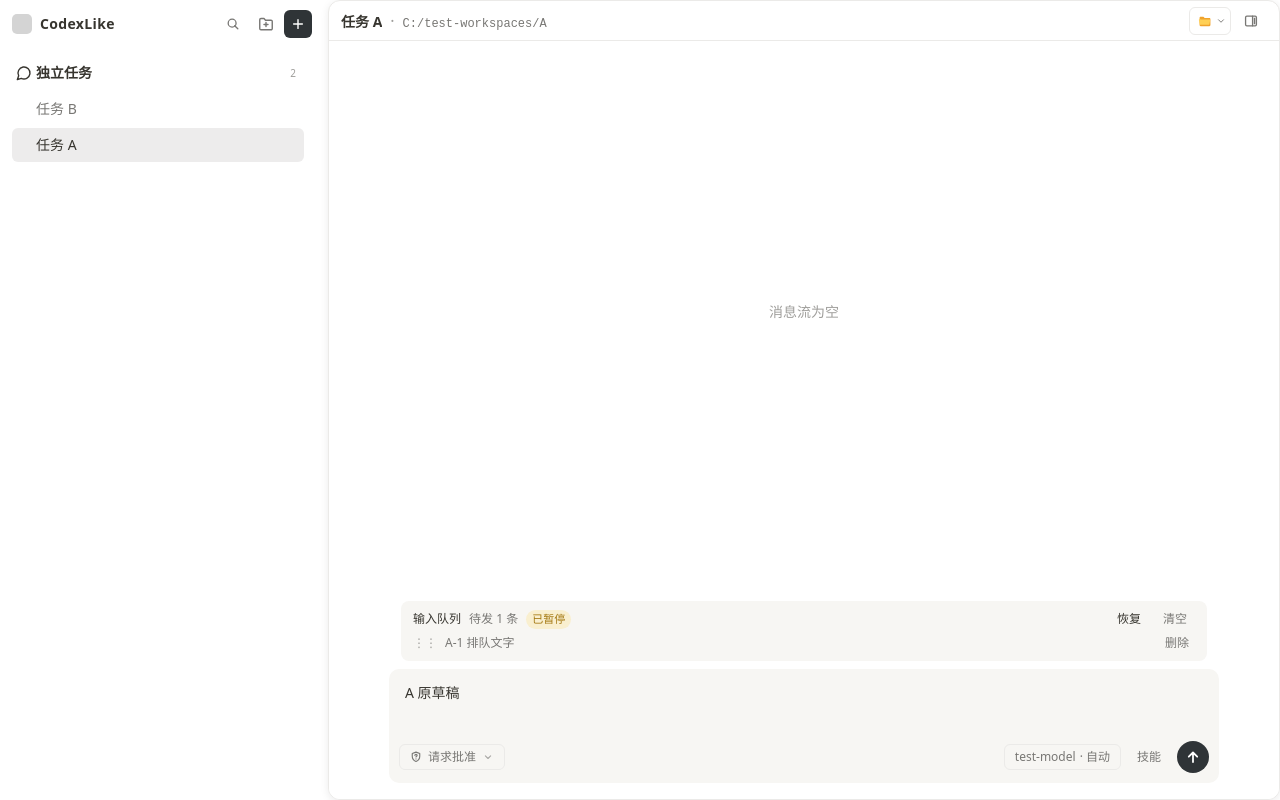
Test case: WorkspacePage 队列编辑与工作台草稿 › C01 保存回包不得覆盖 event 后的新队列
The image size is (1280, 800).
Expected: the text box with test id "composer-input" holds "A 原草稿", [389, 669, 1219, 735]
Expected: the element with test id "queue-bar" is shown, [401, 601, 1207, 661]
Click the button with test id "queue-item-preview": (480, 643) [445, 635, 1151, 651]
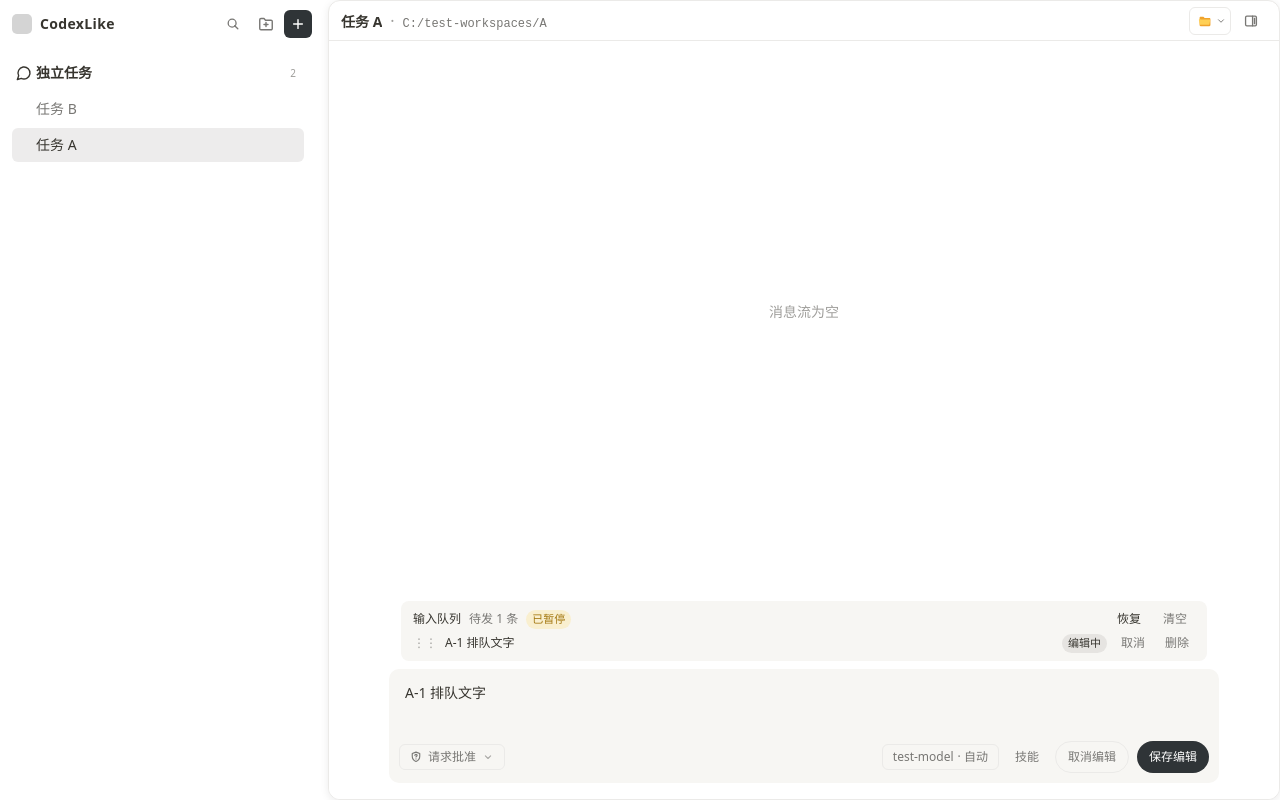
Click the button with test id "composer-save-edit": (1173, 757) [1137, 741, 1209, 773]
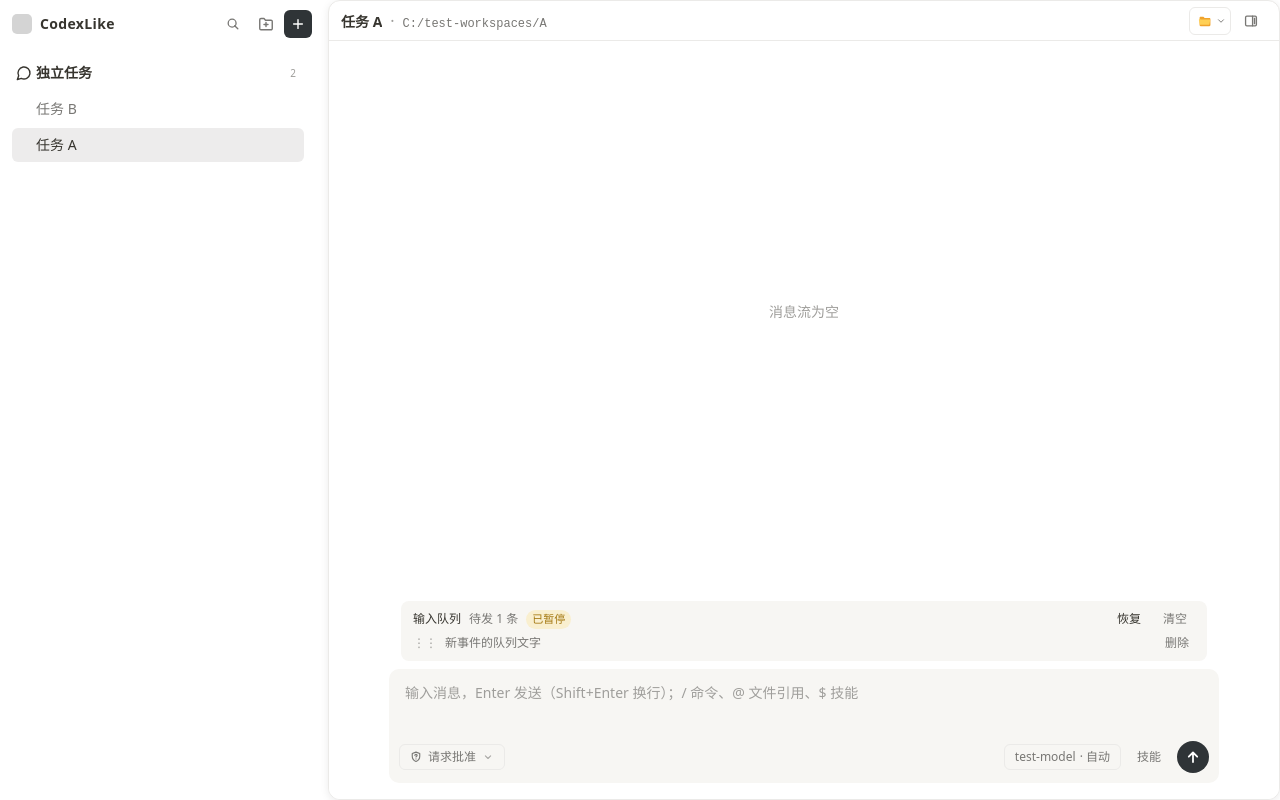
Result: the button with test id "queue-item-preview" reads "新事件的队列文字" at [445, 635, 1151, 651]
